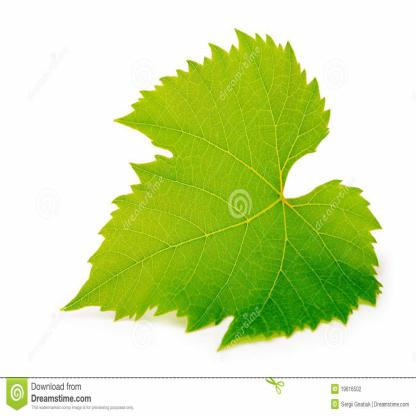grape leaf: (52, 18, 388, 363)
